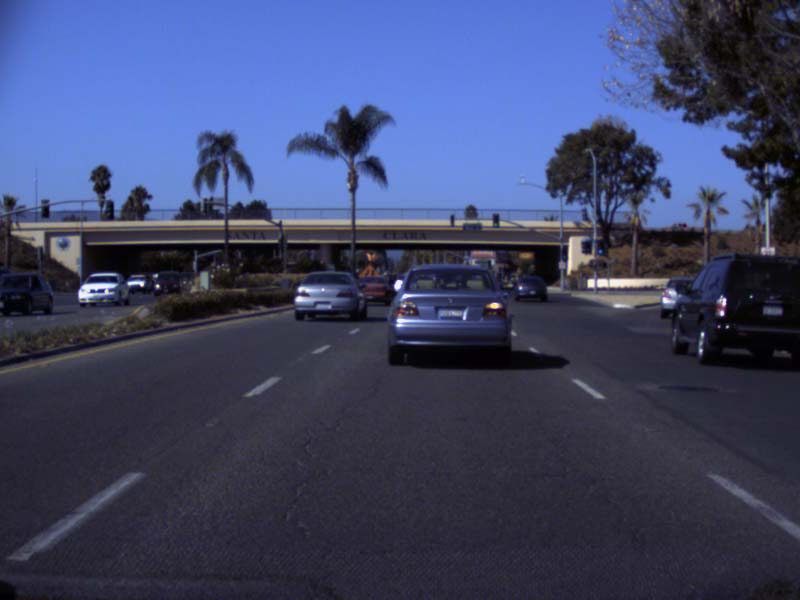Green: (597, 240, 603, 255), (492, 213, 498, 227), (562, 245, 567, 260), (449, 214, 453, 226)
